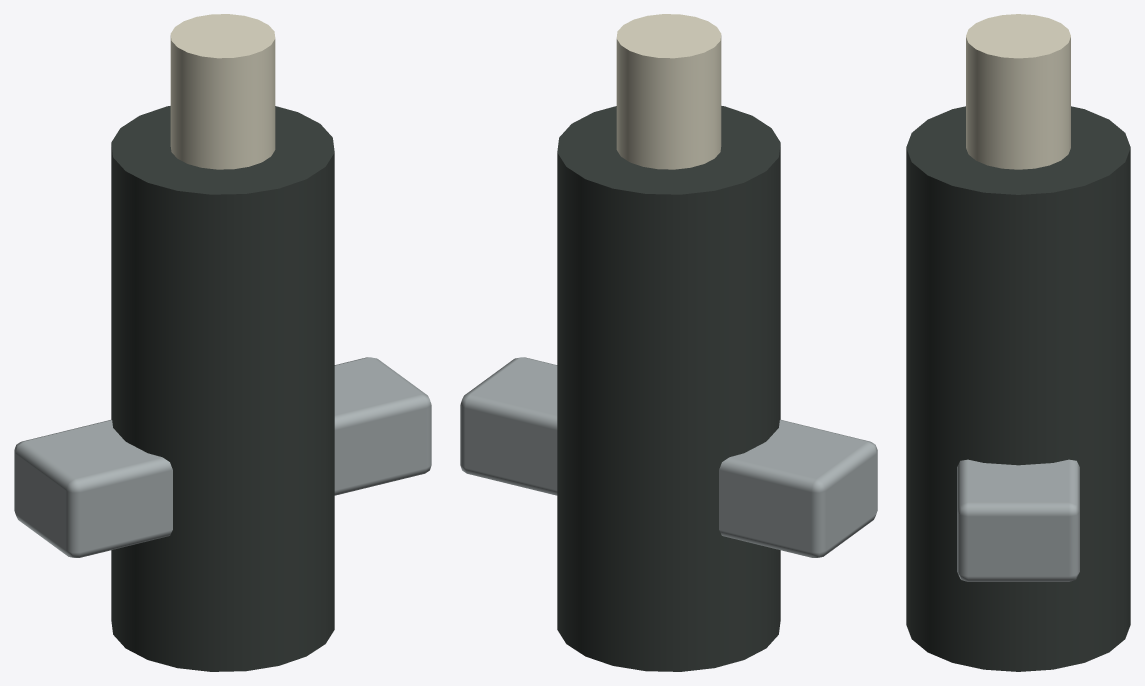
Rendered from survivor-vehicle-maintenance-ignition-coil-99f82c46__26649.glb.
The picture shows the model from 3 angles, left to right: view 1: azimuth 30°, elevation 25°; view 2: azimuth 150°, elevation 25°; view 3: azimuth 270°, elevation 25°; orthographic projection.
Parts seen in each view (by area): view 1: ignition-coil; view 2: ignition-coil; view 3: ignition-coil.
Boxes of the visible parts, x1,y1,x2,y2 form: ignition-coil: [14, 14, 431, 671]; ignition-coil: [460, 14, 877, 671]; ignition-coil: [906, 14, 1130, 671].
Bounding box in the file's own units: 0.12 × 0.185 × 0.064.
